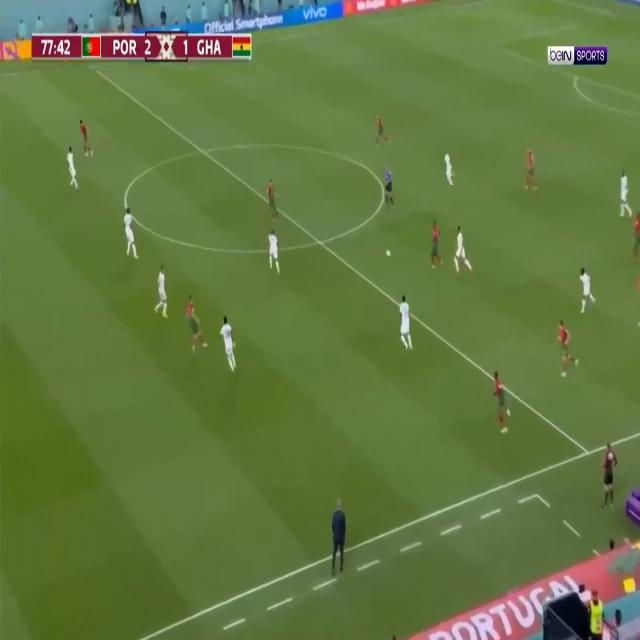Ball: (386, 249, 390, 256)
Referee: (385, 166, 395, 207)
TEAM 1: (490, 370, 516, 436), (554, 318, 580, 379), (185, 296, 206, 352), (523, 147, 539, 194), (430, 218, 444, 270), (265, 177, 279, 224), (376, 116, 390, 150), (80, 119, 92, 156), (632, 210, 640, 265), (636, 270, 640, 330)
TEAM 2: (453, 225, 473, 279), (220, 315, 238, 374), (398, 294, 414, 351), (154, 265, 170, 321), (579, 266, 597, 314), (124, 206, 138, 260), (267, 229, 281, 275), (620, 169, 632, 218), (67, 145, 79, 192), (444, 152, 454, 186)
